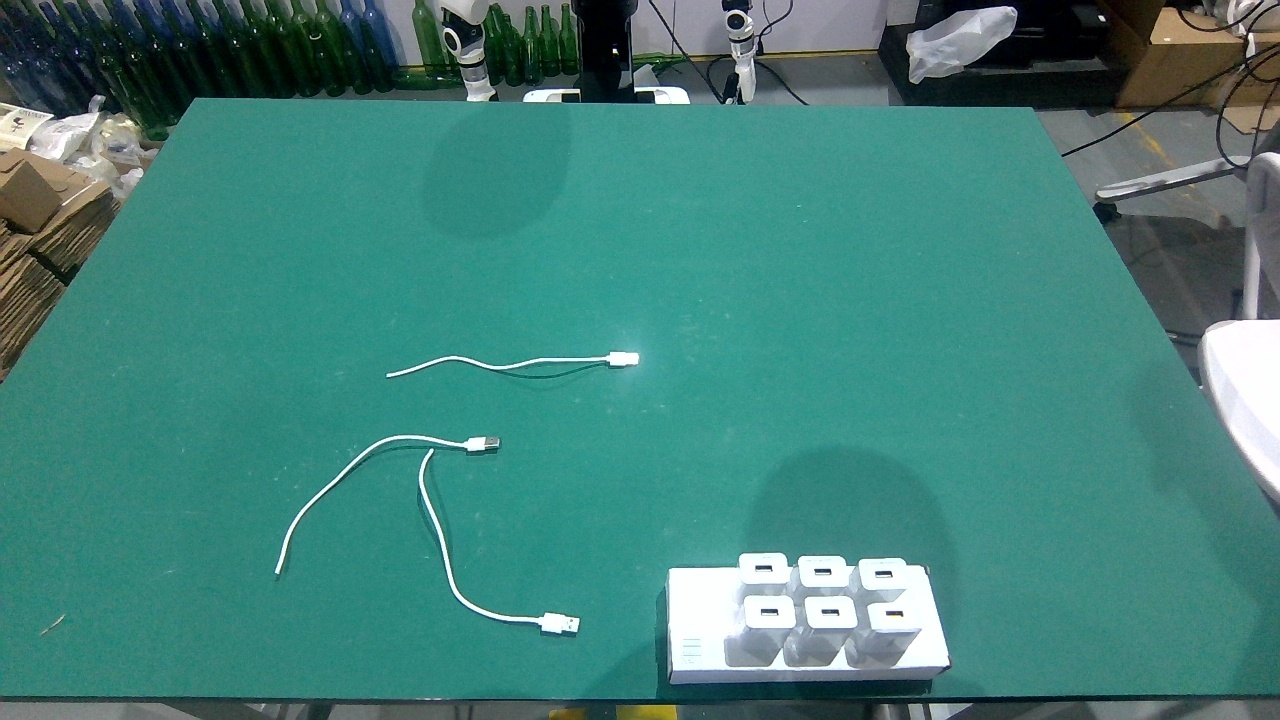usb_a_plug: (523, 609, 581, 637), (452, 436, 500, 453), (596, 351, 639, 366)
